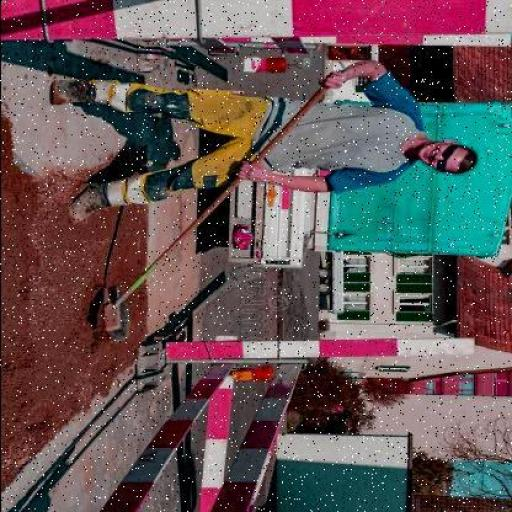person: (38, 50, 476, 223)
safety_shoe: (40, 75, 94, 107), (64, 180, 102, 225)
